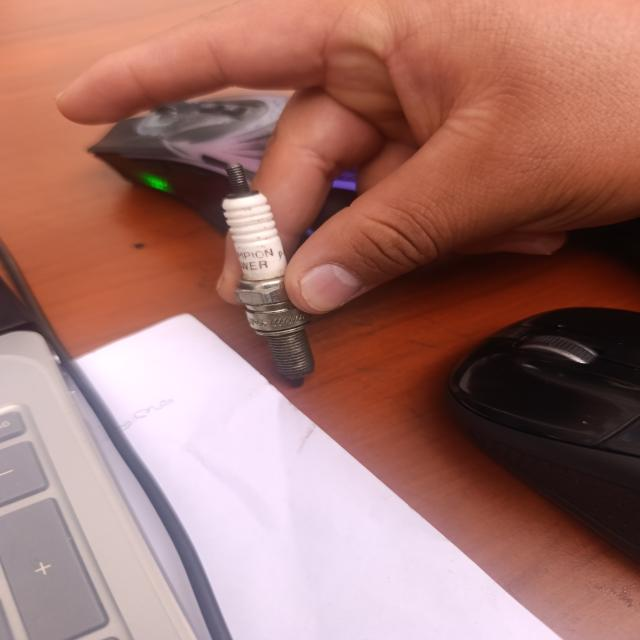bujia: (222, 164, 314, 380)
